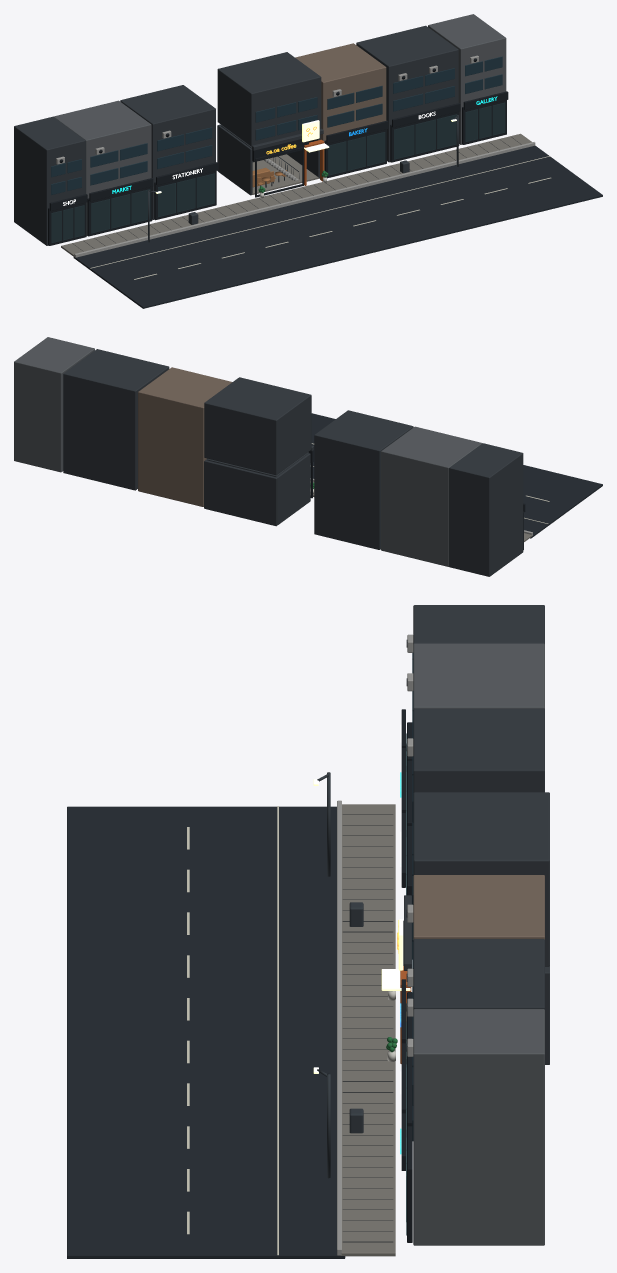
The model's file is coffebar_street_with_jeep.glb.
3 renders of one model, top to bottom at view 1: azimuth 30°, elevation 25°; view 2: azimuth 150°, elevation 25°; view 3: azimuth 270°, elevation 25°, orthographic. The views are drawn at different scales.
Parts seen in each view (by area): view 1: Road_Wet_Asphalt, CoffeeBar_UpperVolume, CornerShop_L_Shell, Sidewalk, Bookstore_Shell, Market_Shell, Stationery_Shell, Bakery_Shell, CornerShop_R_Shell, Bookstore_GroundFrame, Market_GroundFrame, Stationery_GroundFrame (+26 smaller); view 2: Bookstore_Shell, Market_Shell, Stationery_Shell, CornerShop_L_Shell, Bakery_Shell, CoffeeBar_UpperVolume, CornerShop_R_Shell, CoffeeBar_BackWall, Road_Wet_Asphalt, CoffeeBar_LeftPier; view 3: Road_Wet_Asphalt, CornerShop_R_Shell, Sidewalk, CoffeeBar_UpperVolume, Stationery_Shell, Bookstore_Shell, Market_Shell, Bakery_Shell, CornerShop_L_Shell, Curb, ParkingEdgeLine.
Part boxes in pixels (left/top/right/bottom): Road_Wet_Asphalt: left=73, top=145, right=602, bottom=308; CoffeeBar_UpperVolume: left=217, top=52, right=321, bottom=146; CornerShop_L_Shell: left=14, top=116, right=85, bottom=245; Sidewalk: left=61, top=133, right=531, bottom=256; Bookstore_Shell: left=356, top=25, right=458, bottom=162; Market_Shell: left=53, top=100, right=151, bottom=235; Stationery_Shell: left=120, top=85, right=215, bottom=219; Bakery_Shell: left=295, top=43, right=386, bottom=170; CornerShop_R_Shell: left=428, top=14, right=506, bottom=144; Bookstore_GroundFrame: left=390, top=111, right=459, bottom=162; Market_GroundFrame: left=87, top=186, right=152, bottom=236; Stationery_GroundFrame: left=154, top=171, right=216, bottom=220; Bookstore_Shell: left=63, top=349, right=169, bottom=490; Market_Shell: left=381, top=426, right=482, bottom=566; Stationery_Shell: left=314, top=410, right=413, bottom=549; CornerShop_L_Shell: left=449, top=443, right=523, bottom=576; Bakery_Shell: left=138, top=367, right=232, bottom=506; CoffeeBar_UpperVolume: left=204, top=377, right=311, bottom=475; CornerShop_R_Shell: left=14, top=337, right=94, bottom=472; CoffeeBar_BackWall: left=204, top=460, right=277, bottom=526; Road_Wet_Asphalt: left=310, top=413, right=602, bottom=538; CoffeeBar_LeftPier: left=276, top=453, right=310, bottom=524; Road_Wet_Asphalt: left=67, top=806, right=345, bottom=1258; CornerShop_R_Shell: left=413, top=1009, right=544, bottom=1245; Sidewalk: left=340, top=804, right=395, bottom=1256; CoffeeBar_UpperVolume: left=413, top=792, right=549, bottom=966; Stationery_Shell: left=413, top=708, right=544, bottom=793; Bookstore_Shell: left=413, top=939, right=544, bottom=1009; Market_Shell: left=413, top=643, right=544, bottom=709; Bakery_Shell: left=413, top=875, right=544, bottom=939; CornerShop_L_Shell: left=413, top=605, right=544, bottom=644; Curb: left=337, top=800, right=341, bottom=1255; ParkingEdgeLine: left=277, top=806, right=278, bottom=1255.
Size of the model in its own units: 42.9 by 9.1 by 19.1.
